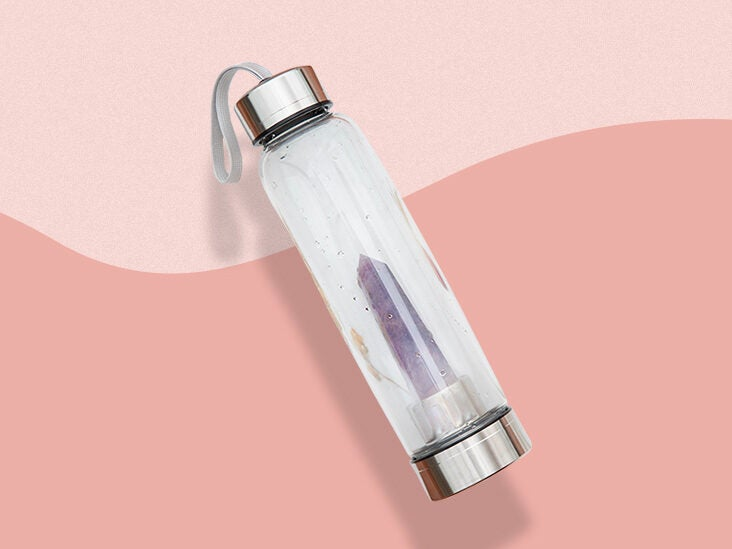bottle_cap: (179, 65, 381, 125)
water_bottle: (167, 30, 568, 509)
